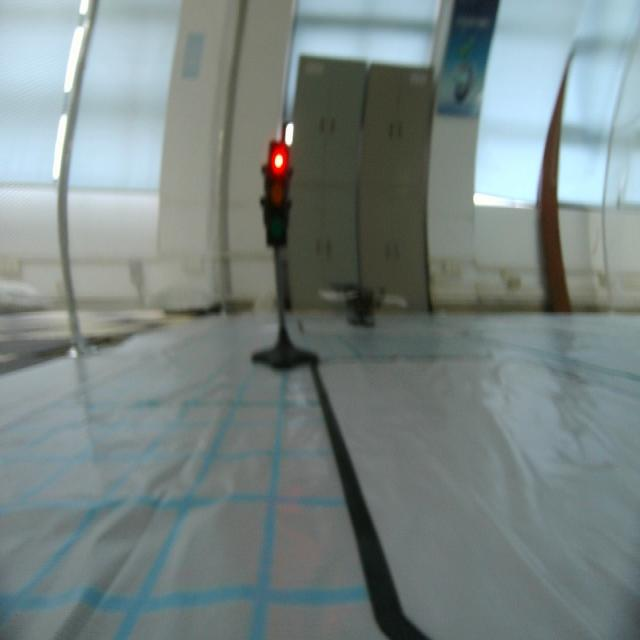red: (261, 136, 295, 255)
